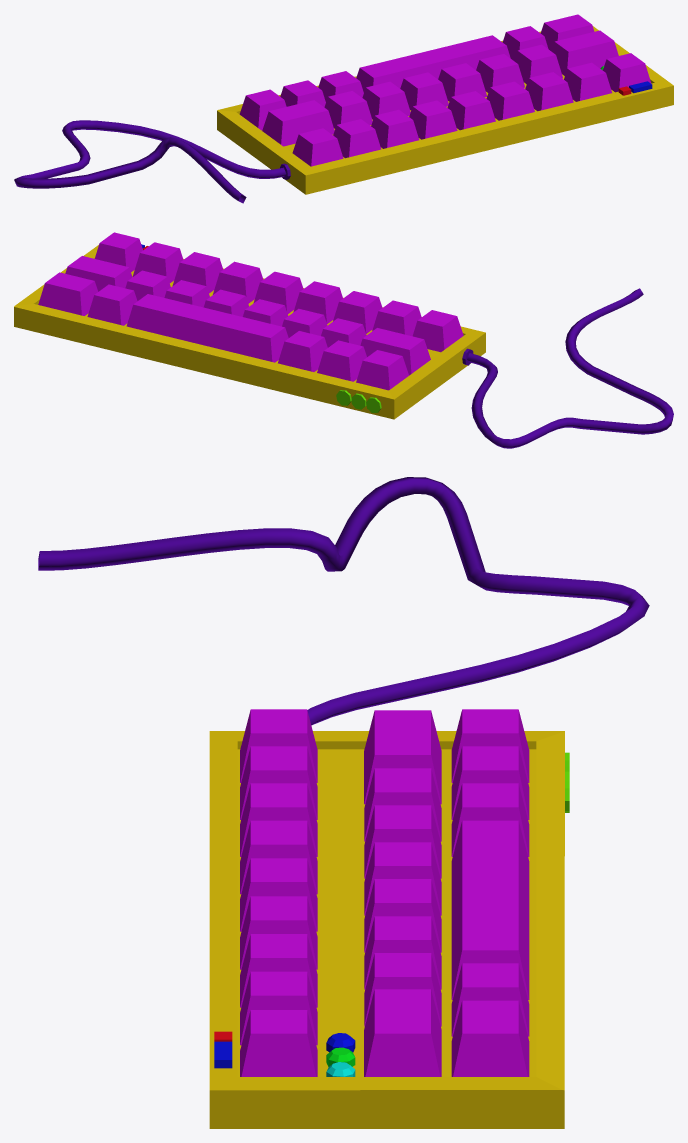
3 renders of one model, top to bottom at view 1: azimuth 30°, elevation 25°; view 2: azimuth 150°, elevation 25°; view 3: azimuth 270°, elevation 25°, orthographic. The views are drawn at different scales.
Visible parts, largest first — view 1: клавиотура; view 2: клавиотура; view 3: клавиотура.
Boxes of the visible parts, x1,y1,x2,y2 form: клавиотура: [14, 14, 673, 203]; клавиотура: [14, 232, 673, 448]; клавиотура: [38, 477, 649, 1128].
Bounding box in the file's own units: 301 × 685 × 74.04.
